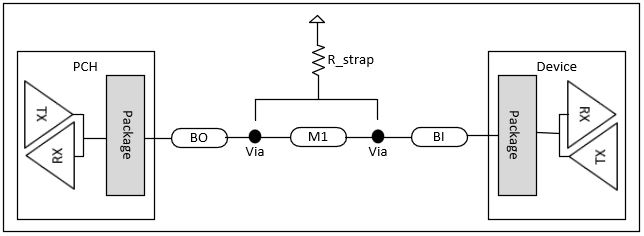circle: (243, 127, 264, 145), (367, 128, 388, 145)
oval: (287, 122, 348, 151), (408, 126, 469, 150), (168, 127, 227, 149)
rectangle: (482, 46, 631, 228), (14, 48, 160, 226), (493, 71, 538, 200), (102, 69, 146, 199)
resistor: (307, 41, 328, 78)
triangle: (559, 74, 618, 150), (565, 120, 621, 193), (22, 73, 73, 151), (24, 121, 79, 192)
